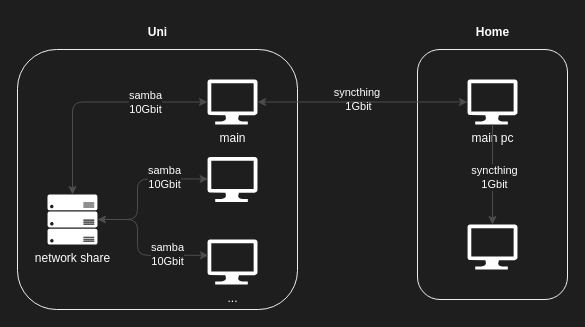
Some shapes in this 585 by 327 pixel diagram are drawn without their labels. Here are the shapes that lost their labels. From the top down, the centre of each, then its label:
At pixel 232 179: "render 1".
At pixel 492 246: "friends pc".
